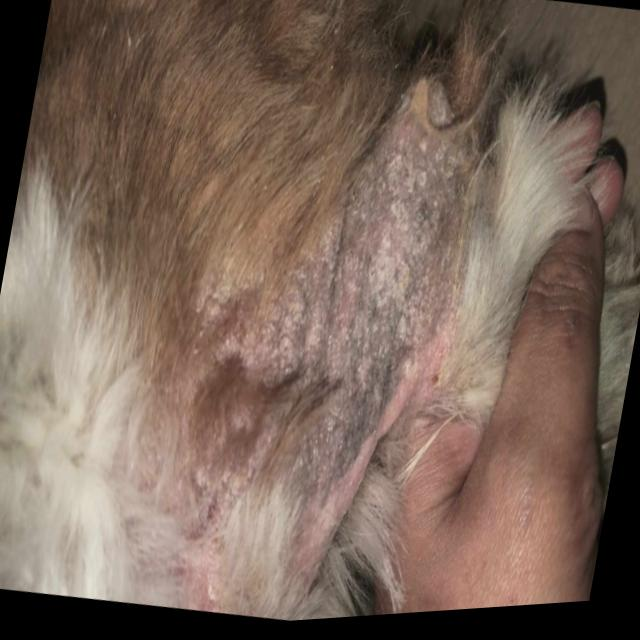demodicosis: (164, 32, 527, 578)
